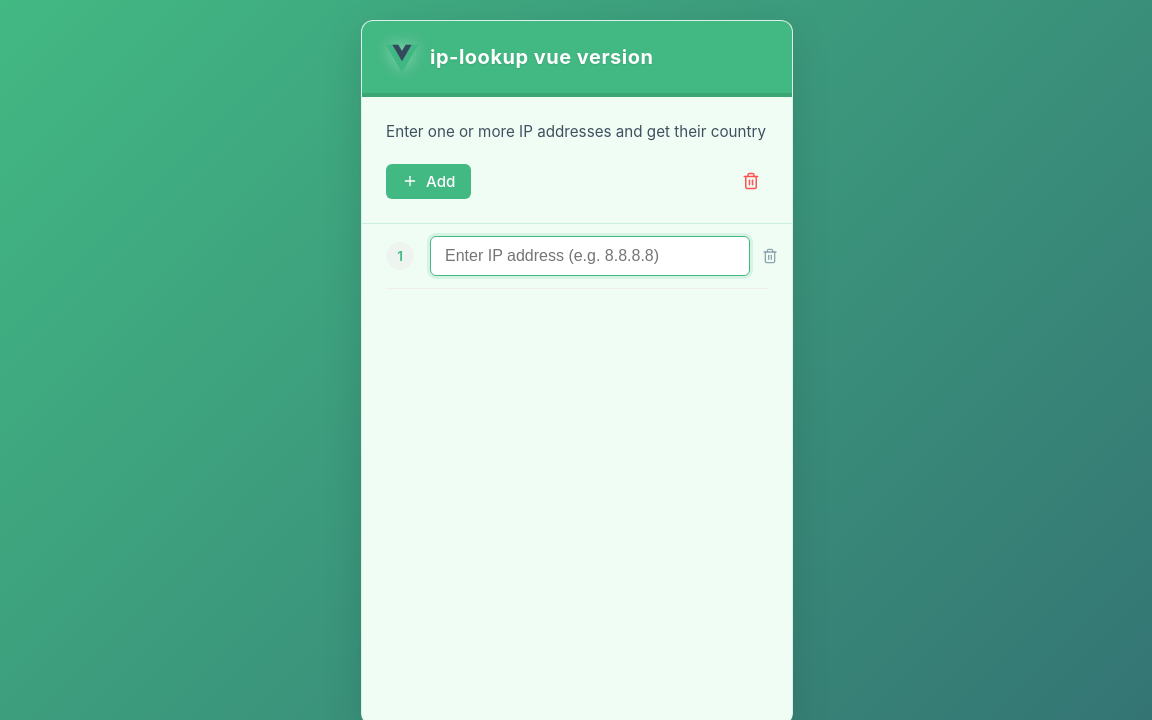
Test: IpLookupCard.vue › adds a row when AddButton is clicked
Click the button "Add": [429, 181] box [386,164,471,199]
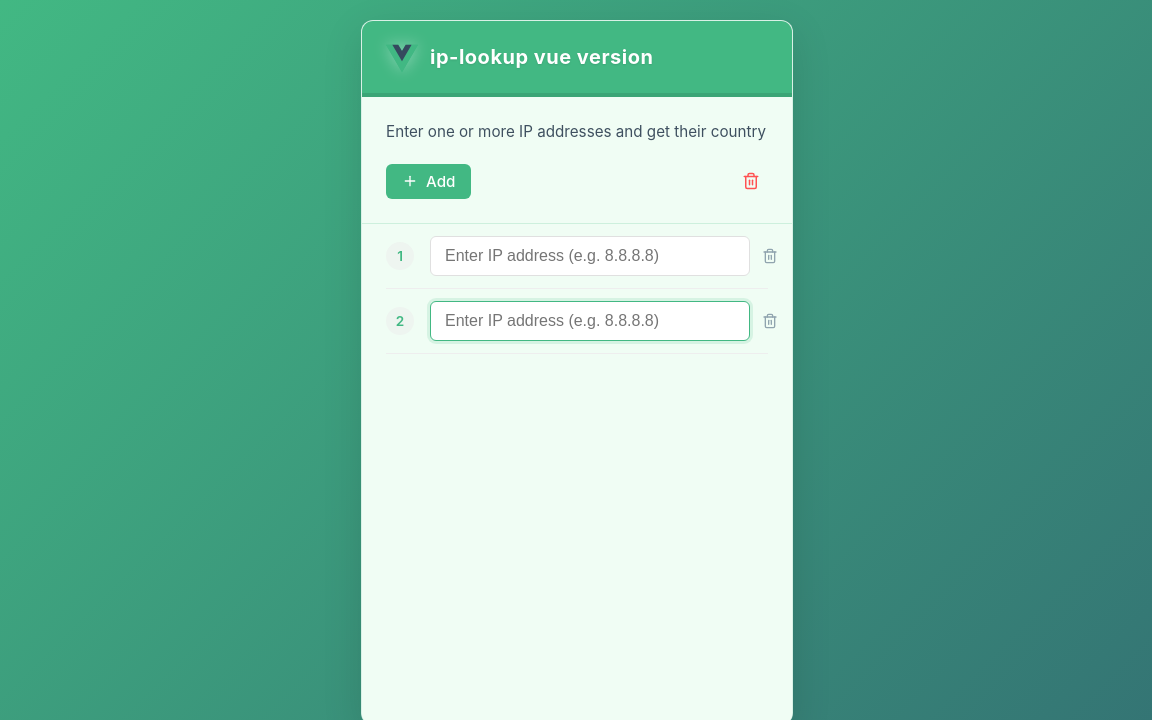
Check: the number of "IpRow" components is 2, box [386,224,768,289]; [386,289,768,354]
